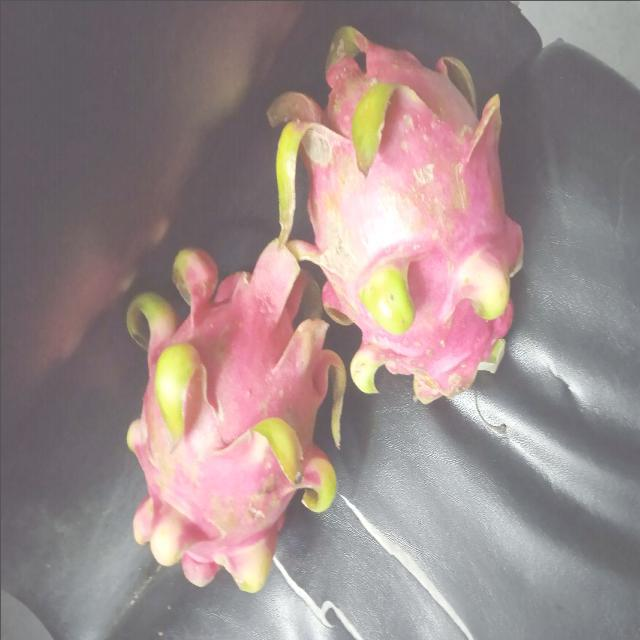do: (292, 22, 524, 401), (118, 240, 342, 598)
